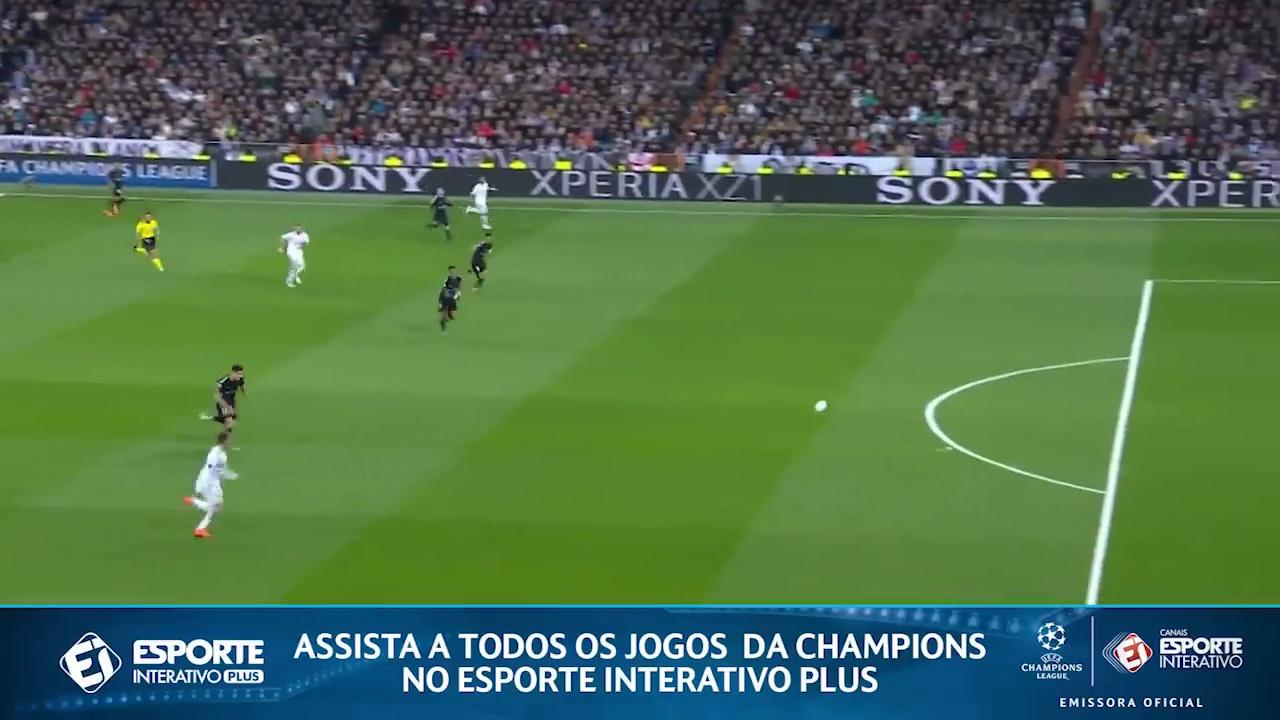football: (802, 395, 838, 419)
player: (184, 431, 237, 537), (200, 365, 245, 432), (279, 225, 309, 287), (438, 265, 461, 331), (466, 177, 493, 233), (428, 188, 452, 240), (469, 237, 492, 291), (104, 163, 124, 216)
referee: (134, 212, 163, 271)
